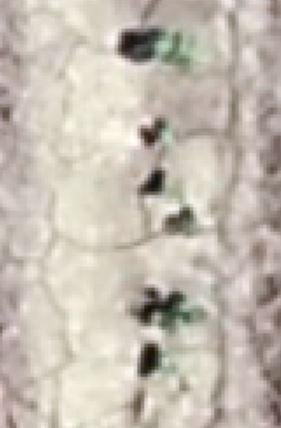cotton: (160, 35, 191, 62), (179, 208, 194, 234), (173, 307, 196, 323), (161, 354, 174, 374), (160, 130, 173, 143)
